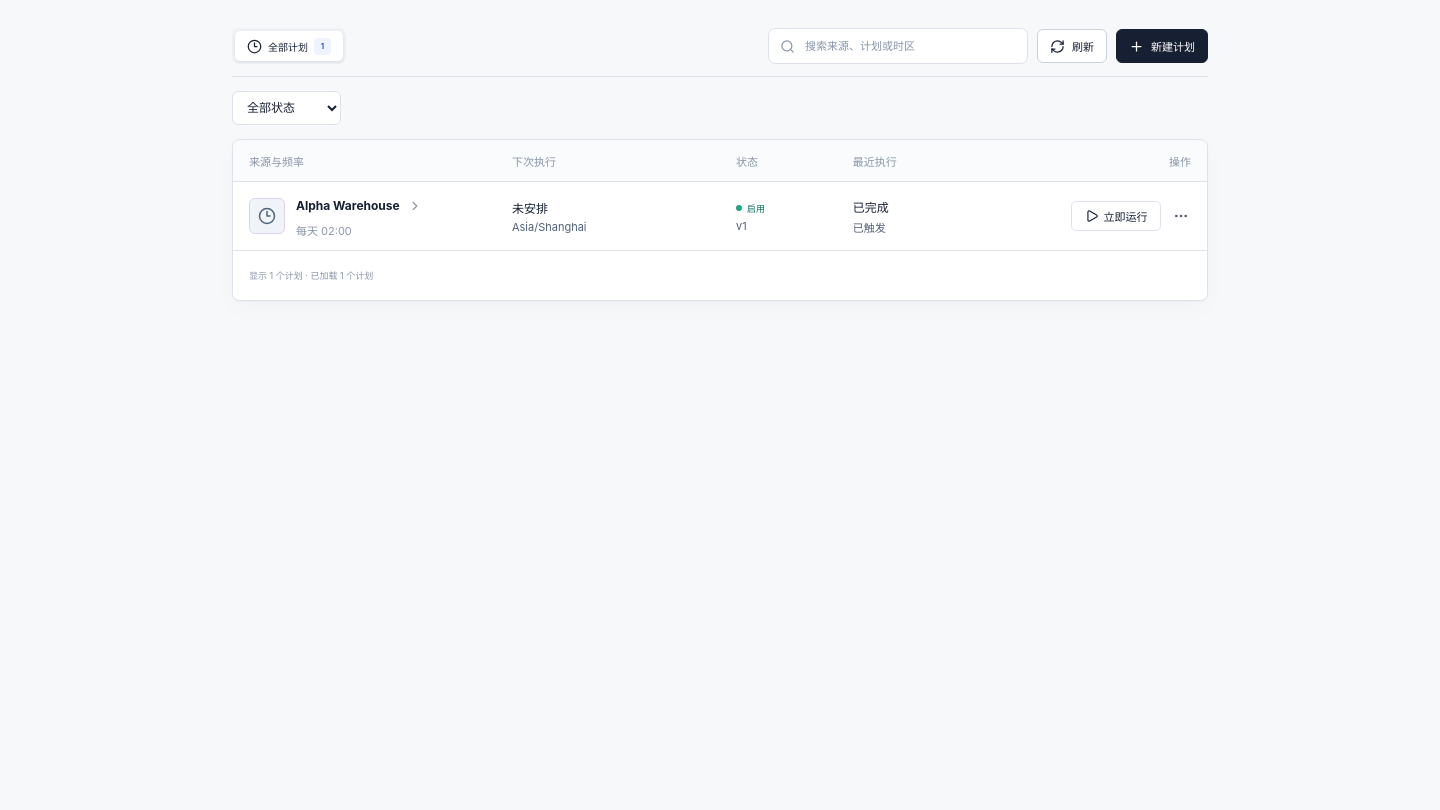
real source and candidate workspace › refreshes candidates when opening a newly completed schedule run
Click the button with aria-label "查看计划 sch_fresh" at (359, 206), box [296,194,422,218]
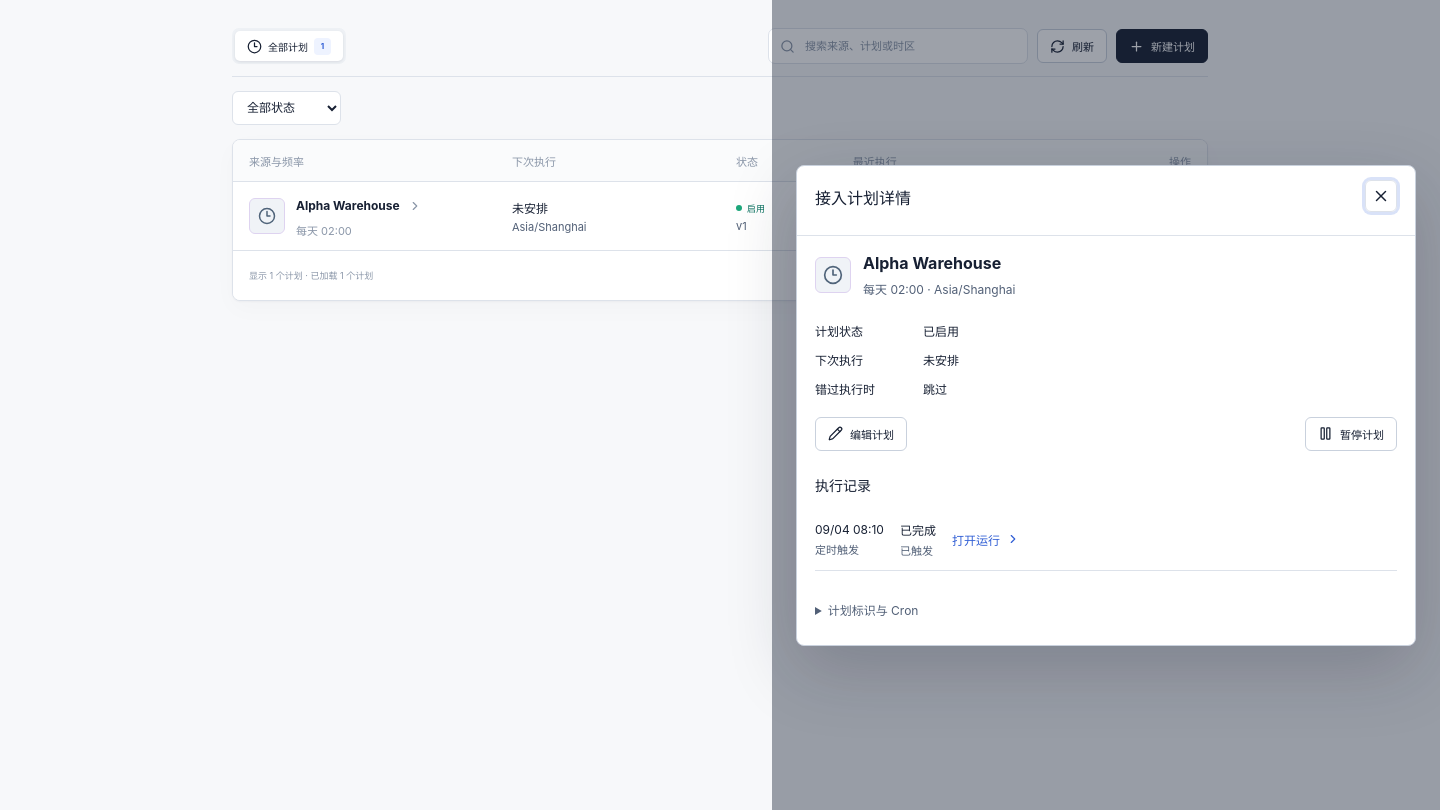
Click the button "打开运行" at (986, 539), box [952,526,1020,552]
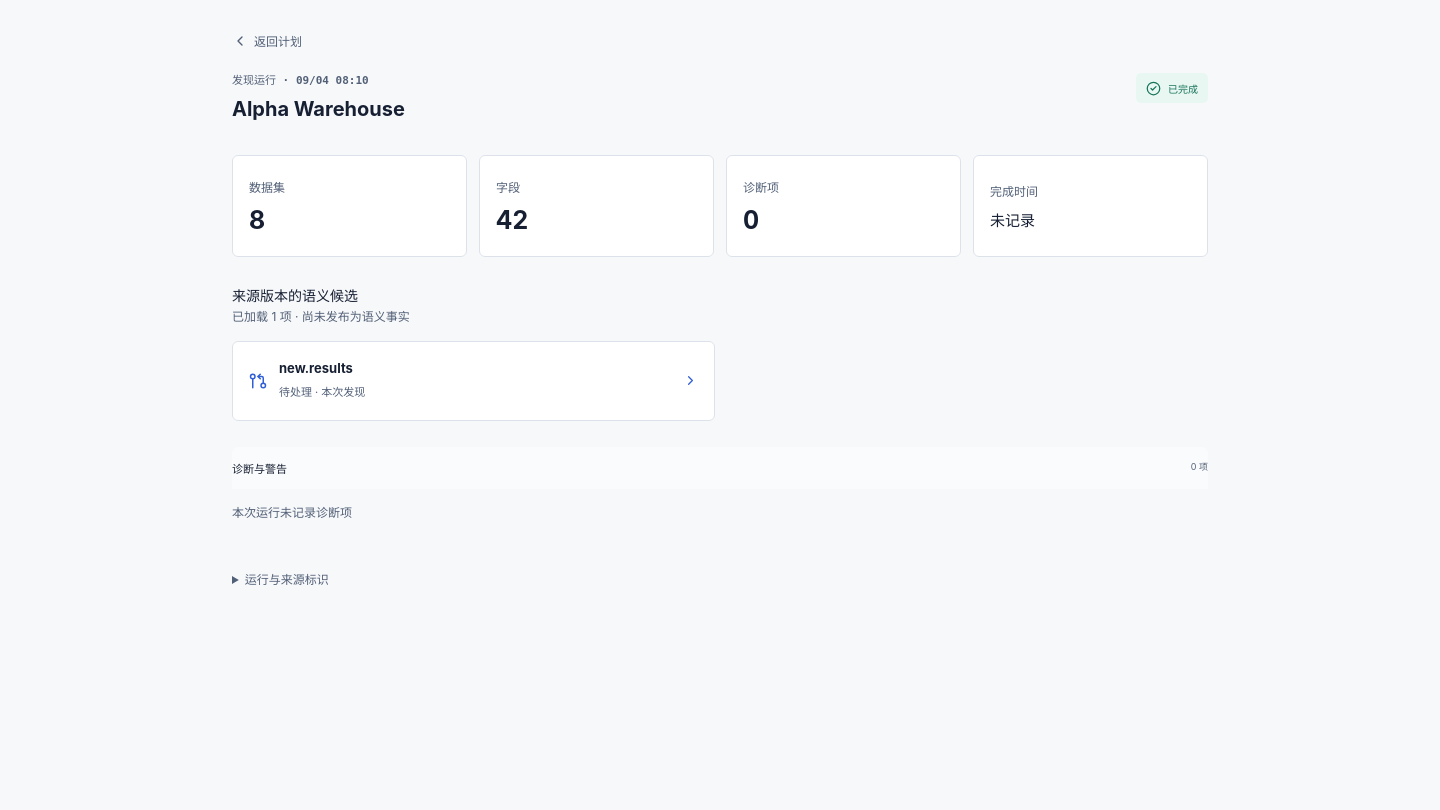
expect the button "new.results 待处理 · 本次发现" is shown: met, box [232,341,715,421]
